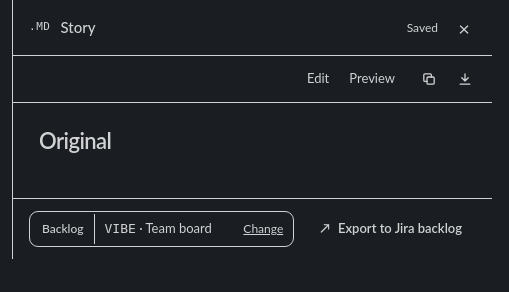
Test: Jira export in the document panel › should wait for the document to save when it has unsaved changes
Click the button "Edit": [318, 79] box [297,65,339,92]
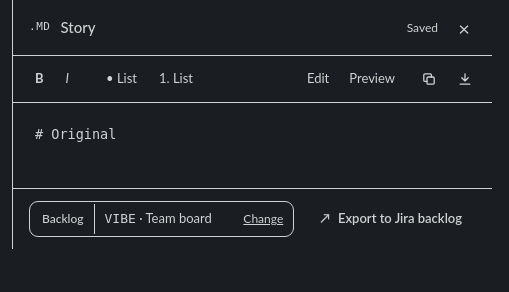
Replace the text in the text box named "Document, in markdown" with "# Changed": [252, 145] box [13,102,492,188]
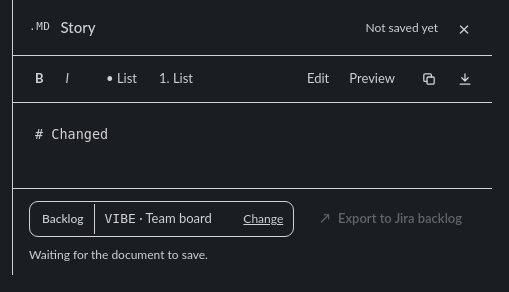
Check: the button "↗ Export to Jira backlog" is disabled, box [306,202,476,236]
Check: the text "Waiting for the document to save." is shown, box [29,247,208,262]
